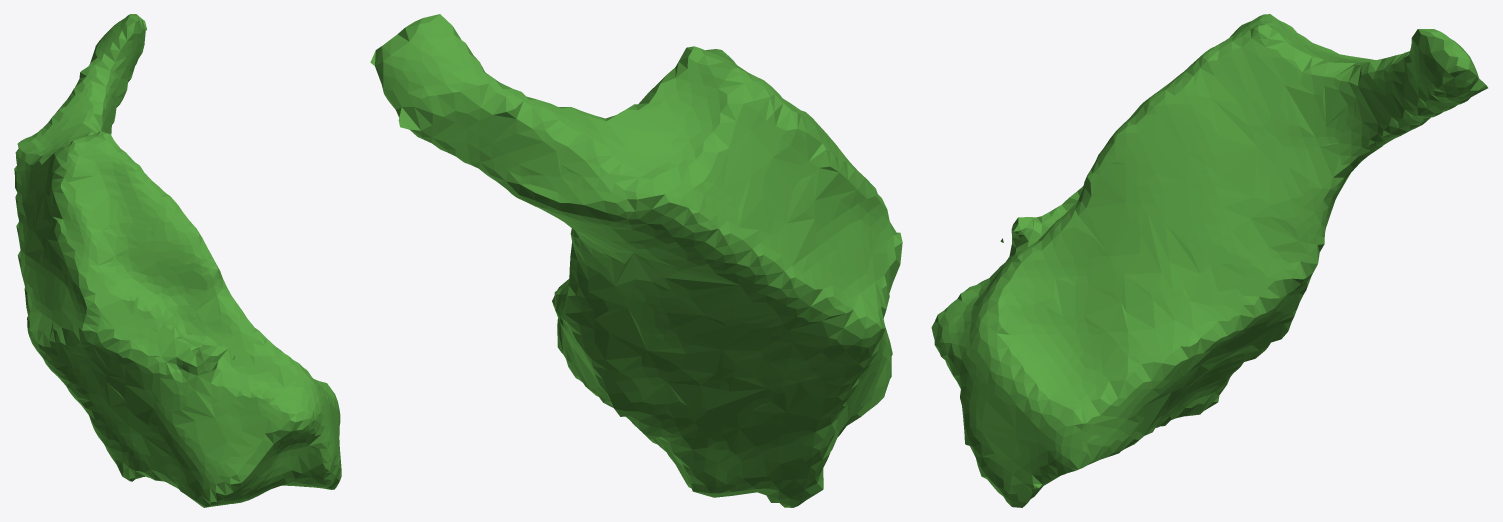
File: Model_78_RH__Auditory_cortex__caudomedial_area_(AuCM).obj
3 views of the same model, side by side, from view 1: azimuth 30°, elevation 25°; view 2: azimuth 150°, elevation 25°; view 3: azimuth 270°, elevation 25° (orthographic). The views are drawn at different scales.
Bounding box in the file's own units: 2.76 × 3.77 × 4.19.
